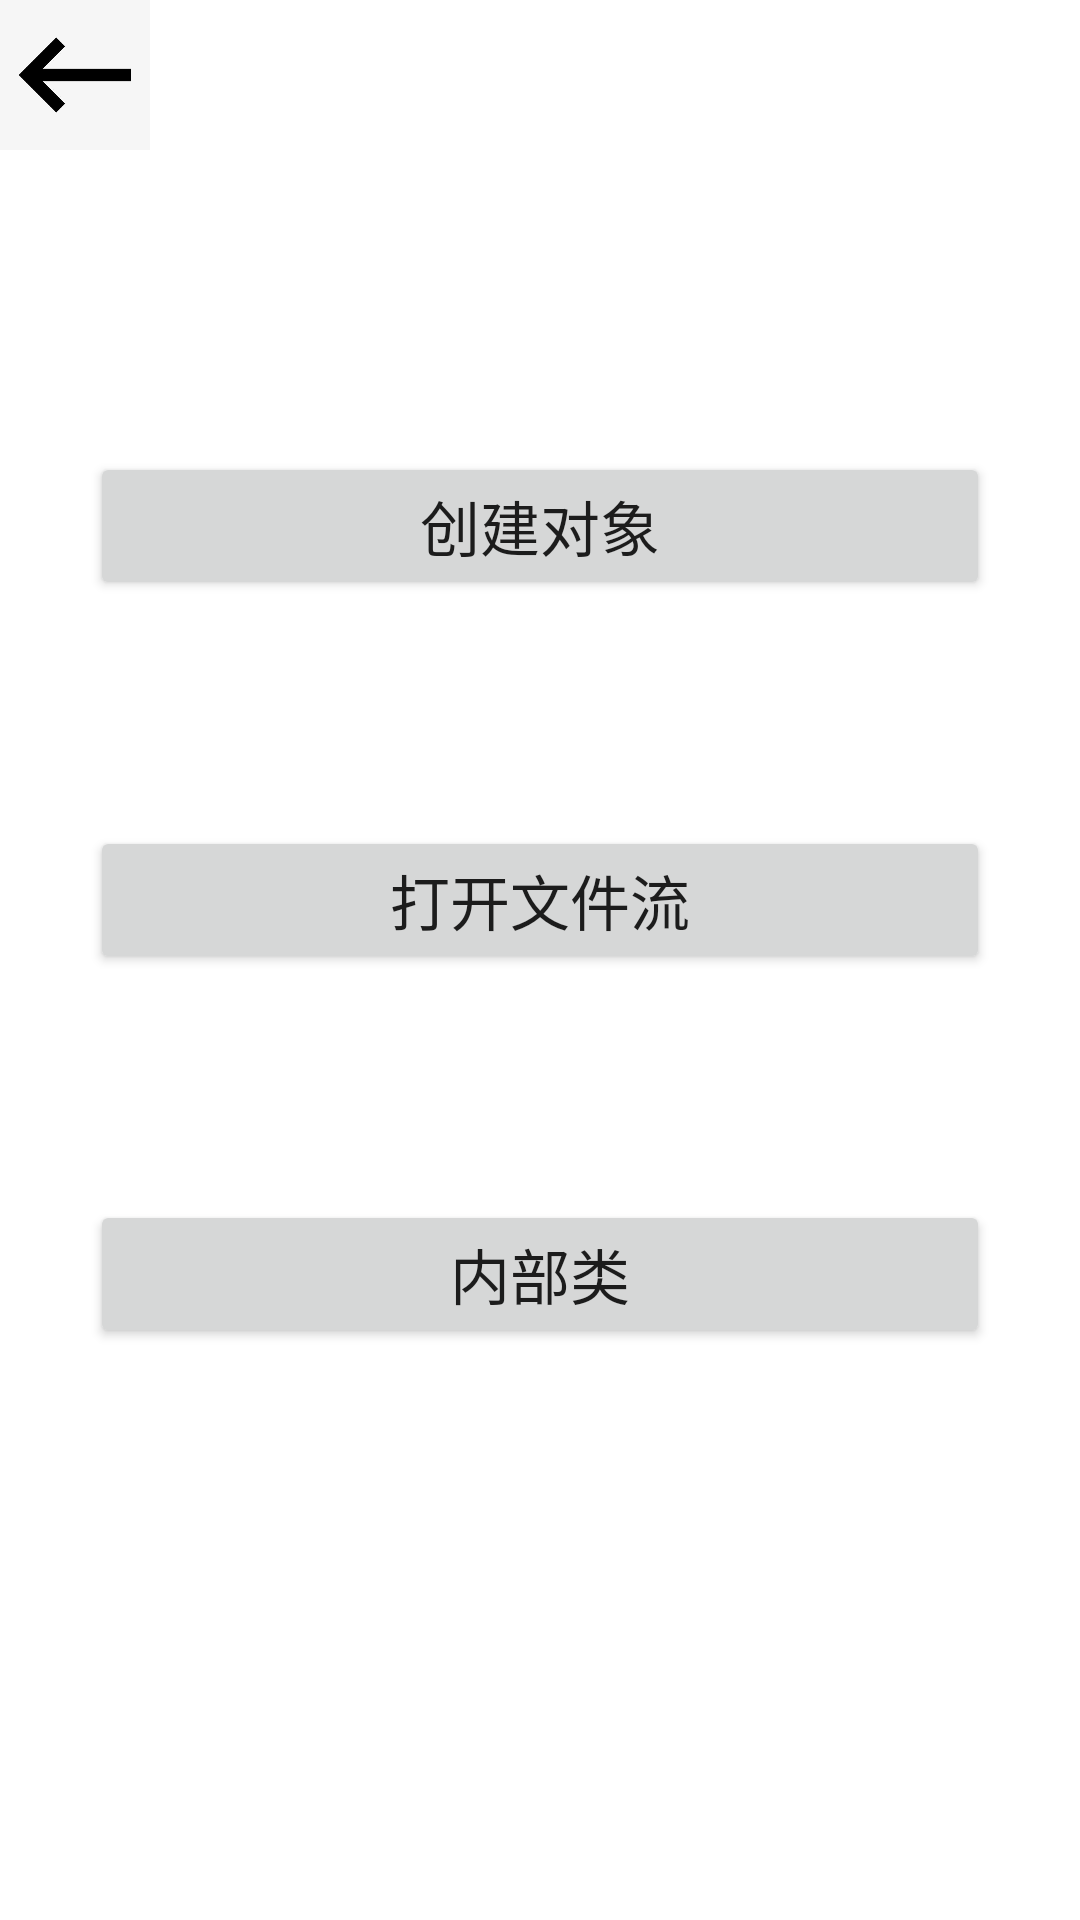

Where icons sit on this 1080×1920 app screen, as (x1, y1, x2, y2):
back: (0, 0, 150, 150)
